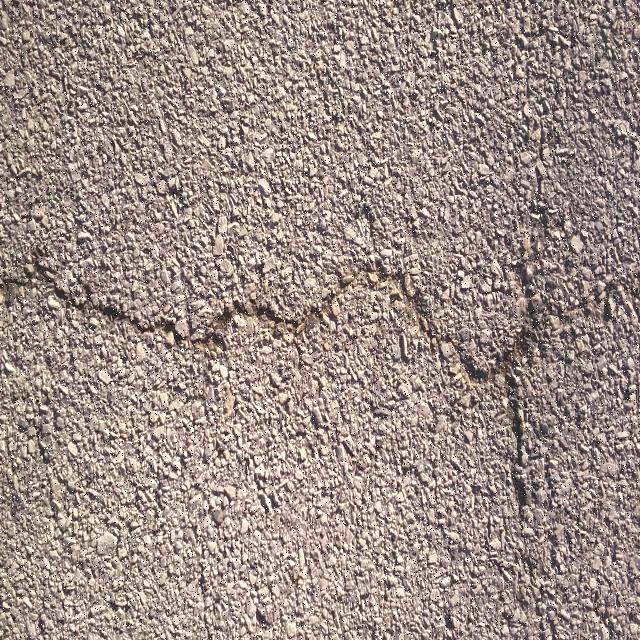Crack: (0, 254, 640, 515)
